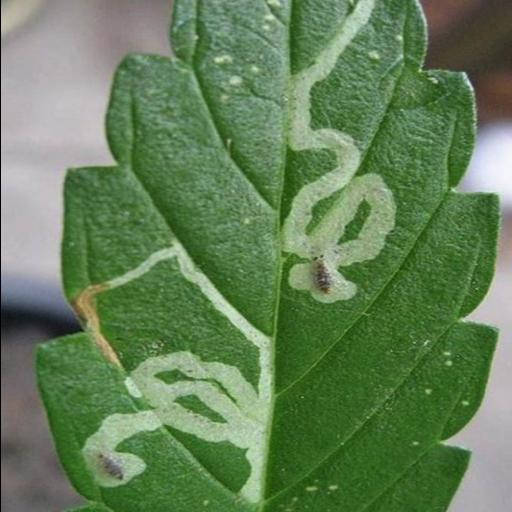disease_tomato: (38, 0, 506, 512)
